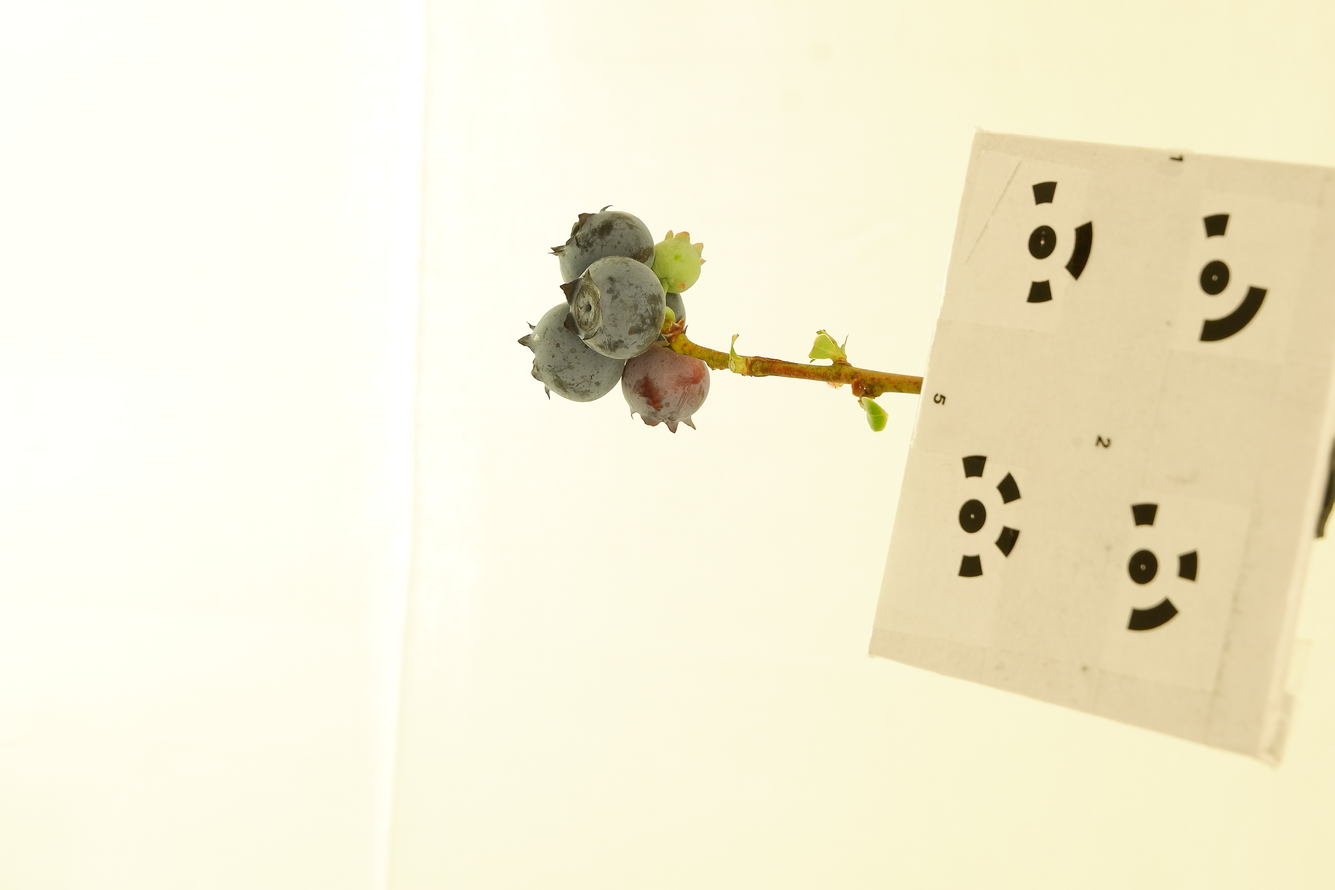Immature: (621, 341, 710, 434), (650, 229, 706, 294)
Mature: (560, 257, 667, 359), (517, 302, 626, 402), (548, 205, 656, 282), (657, 291, 686, 341)
